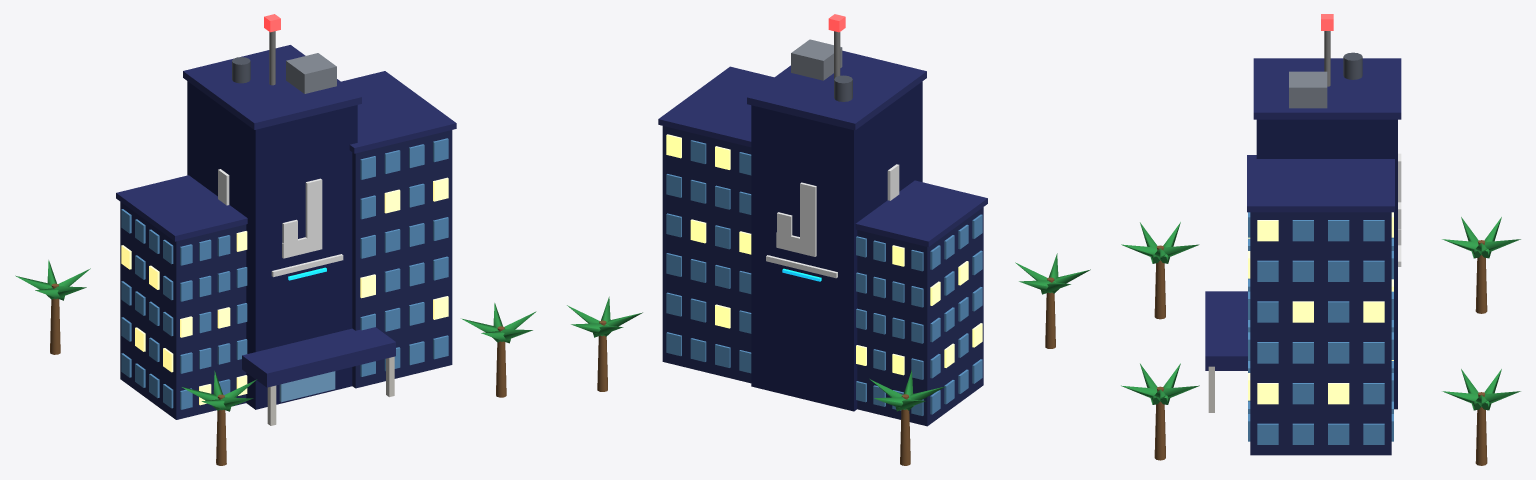
Rendered from 01_J_Enterprise_Tower.glb.
3 views of the same model, side by side, from view 1: azimuth 30°, elevation 25°; view 2: azimuth 150°, elevation 25°; view 3: azimuth 270°, elevation 25° (orthographic). The views are drawn at different scales.
Visible parts, largest first — view 1: main_tower, east_wing, west_wing, west_wing_windows, east_wing_windows, main_roof, canopy, east_roof, west_roof, hvac, palm_1, palm_0 (+4 smaller); view 2: main_tower, west_wing, east_wing, west_wing_windows, east_wing_windows, main_roof, west_roof, east_roof, hvac, palm_2, palm_0, palm_3 (+2 smaller); view 3: east_wing, east_wing_windows, east_roof, main_roof, main_tower, canopy, palm_2, palm_3, palm_0, palm_1, hvac, vent.
Boxes of the visible parts, <box> form: main_tower: <box>187,81,357,409</box>; east_wing: <box>352,130,452,388</box>; west_wing: <box>120,202,246,419</box>; west_wing_windows: <box>121,209,247,409</box>; east_wing_windows: <box>360,138,448,376</box>; main_roof: <box>183,45,361,129</box>; canopy: <box>242,327,395,387</box>; east_roof: <box>341,71,456,153</box>; west_roof: <box>116,175,247,241</box>; hvac: <box>286,53,336,93</box>; palm_1: <box>461,303,536,397</box>; palm_0: <box>182,370,256,465</box>; main_tower: <box>751,81,922,411</box>; west_wing: <box>857,207,983,426</box>; east_wing: <box>662,126,751,383</box>; west_wing_windows: <box>856,214,982,415</box>; east_wing_windows: <box>666,134,751,373</box>; main_roof: <box>747,50,926,130</box>; west_roof: <box>855,180,987,246</box>; east_roof: <box>658,66,773,147</box>; hvac: <box>791,39,842,80</box>; palm_2: <box>870,370,945,465</box>; palm_0: <box>1015,253,1090,348</box>; palm_3: <box>567,296,642,391</box>; east_wing: <box>1250,212,1391,455</box>; east_wing_windows: <box>1248,212,1393,444</box>; east_roof: <box>1247,155,1394,212</box>; main_roof: <box>1253,58,1401,119</box>; main_tower: <box>1256,119,1397,409</box>; canopy: <box>1205,291,1247,370</box>; palm_2: <box>1442,217,1520,313</box>; palm_3: <box>1442,369,1520,465</box>; palm_0: <box>1121,222,1199,319</box>; palm_1: <box>1121,363,1199,460</box>; hvac: <box>1289,71,1327,108</box>; vent: <box>1343,52,1362,79</box>.
Bounding box in the file's own units: 6.85 × 6.3 × 6.25.
